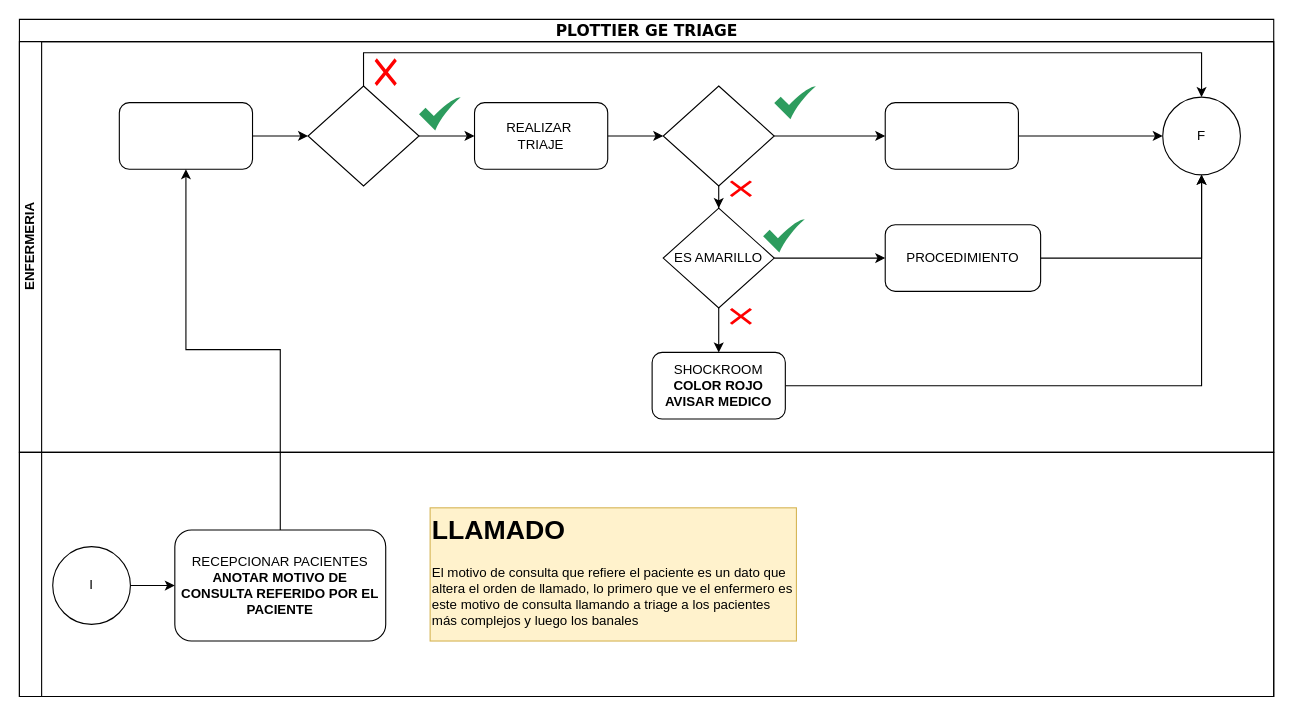
Image size: 1293x716. Some labels were removed from this diagram. The box of each missing label's shape, as (x1, y1, x2, y2) in pixels:
ES VERDE: (662, 85, 774, 186)
ESTA PRESENTE: (307, 85, 419, 186)
GESTION DE PACIENTES: (18, 451, 1274, 697)
LLAMAR PACIENTE: (118, 102, 253, 169)
SALA DE ESPERA: (884, 102, 1018, 169)
